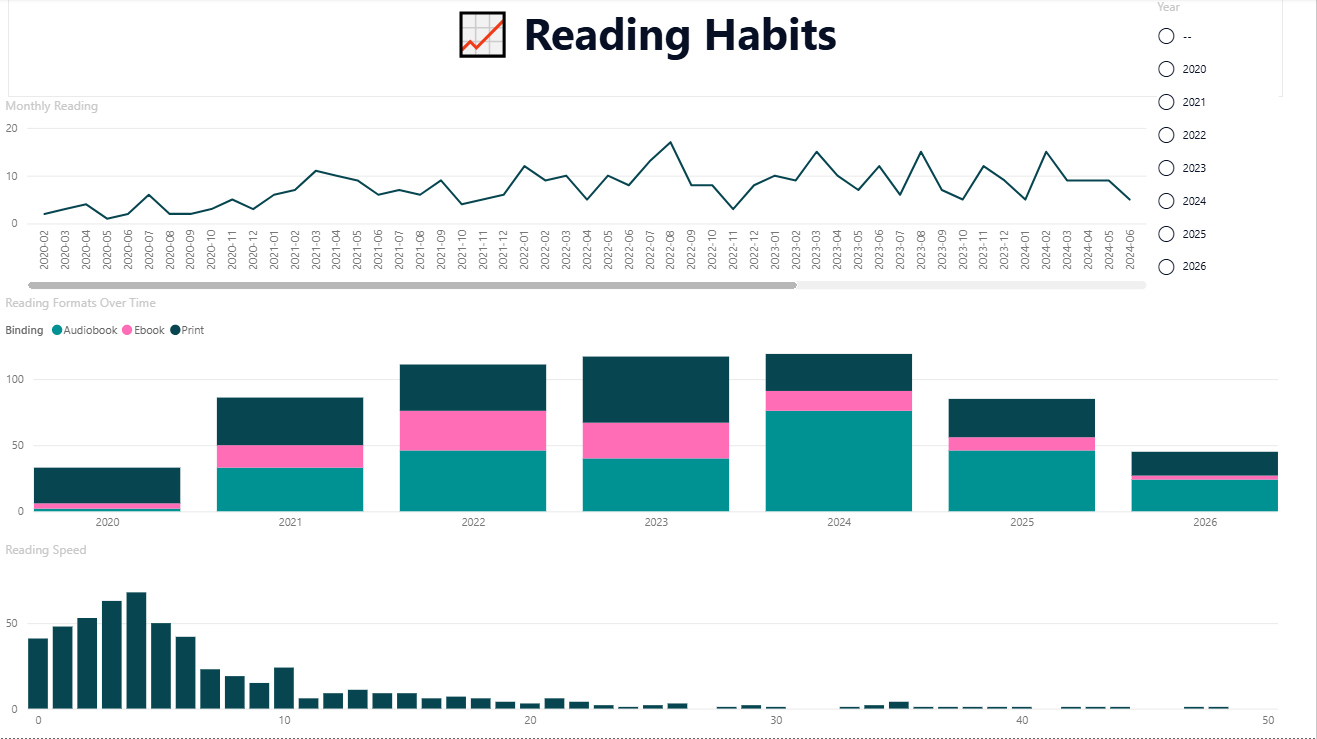

Layout of this report page (visuals, bound fields, positions):
{"tool":"powerbi","page":{"name":"Reading Habits","canvas":[1280,720],"ordinal":3},"visuals":[{"type":"textbox","box":[8,0,1240,96],"z":0},{"type":"lineChart","title":"Monthly Reading","fields":{"Y":["FactBooks.Books Read"],"Category":["DimDate.YearMonth"]},"box":[0,96,1120,192],"z":1000},{"type":"columnChart","title":"Reading Formats Over Time","fields":{"Category":["DimDate.Year"],"Y":["FactBooks.Books Read"],"Series":["FactBooks.Binding"]},"box":[0,288,1248,240],"z":2000},{"type":"listSlicer","fields":{"Values":["DimDate.Year"]},"box":[1120,0,128,288],"z":3000},{"type":"clusteredColumnChart","title":"Reading Speed","fields":{"Category":["FactBooks.Days to Read (bins)"],"Y":["FactBooks.Books Read"]},"box":[0,528,1248,192],"z":4000}]}

Visuals, with their boxes in screenshot pixels (x1, y1, x2, y2), scaled from the page's 1280x720 canvas onto the 1317x739 screenshot:
textbox: <bbox>8, 0, 1284, 99</bbox>
"Monthly Reading" lineChart: <bbox>0, 99, 1152, 296</bbox>
"Reading Formats Over Time" columnChart: <bbox>0, 296, 1284, 542</bbox>
listSlicer - DimDate.Year: <bbox>1152, 0, 1284, 296</bbox>
"Reading Speed" clusteredColumnChart: <bbox>0, 542, 1284, 738</bbox>
